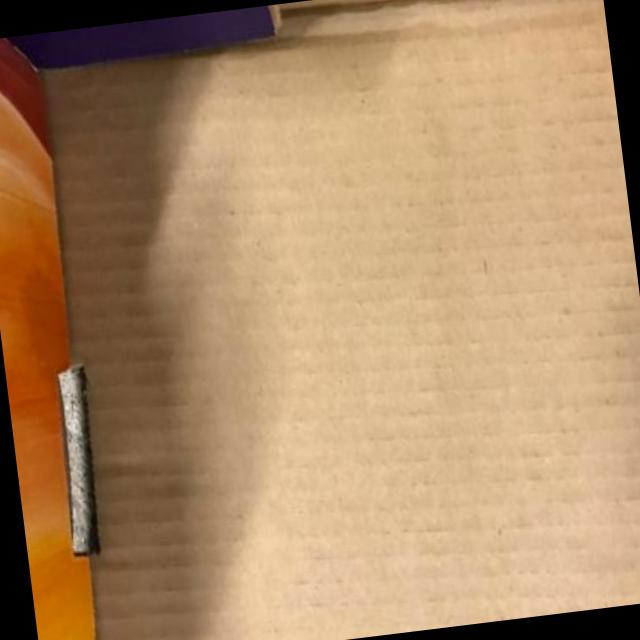cardboard paper: (42, 0, 640, 640)
